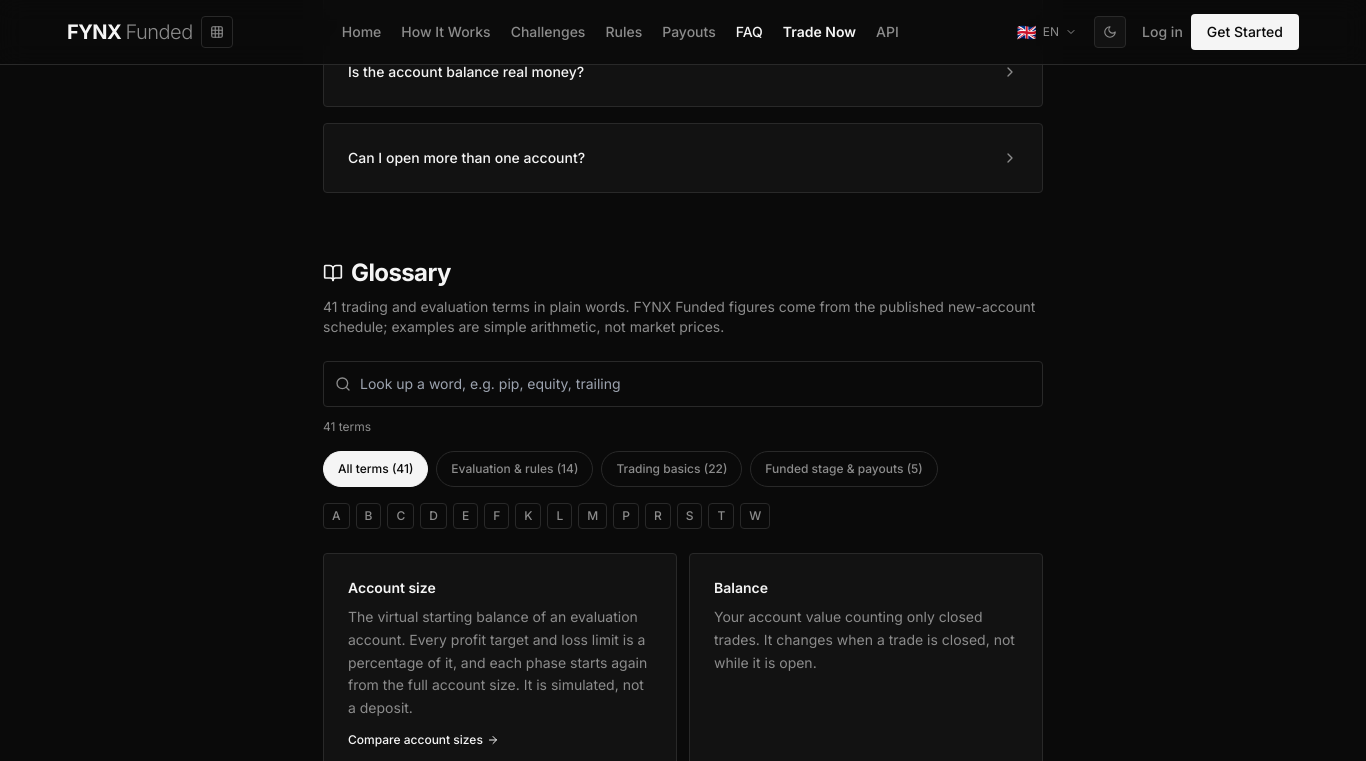
Test case: glossary › is searchable on the FAQ page and links each term
Later steps or results of the test are not shown.
(page scrolled)
Type "equity" into the field named "Search the glossary" at (683, 384), box x1=323 y1=361 x2=1043 y2=407
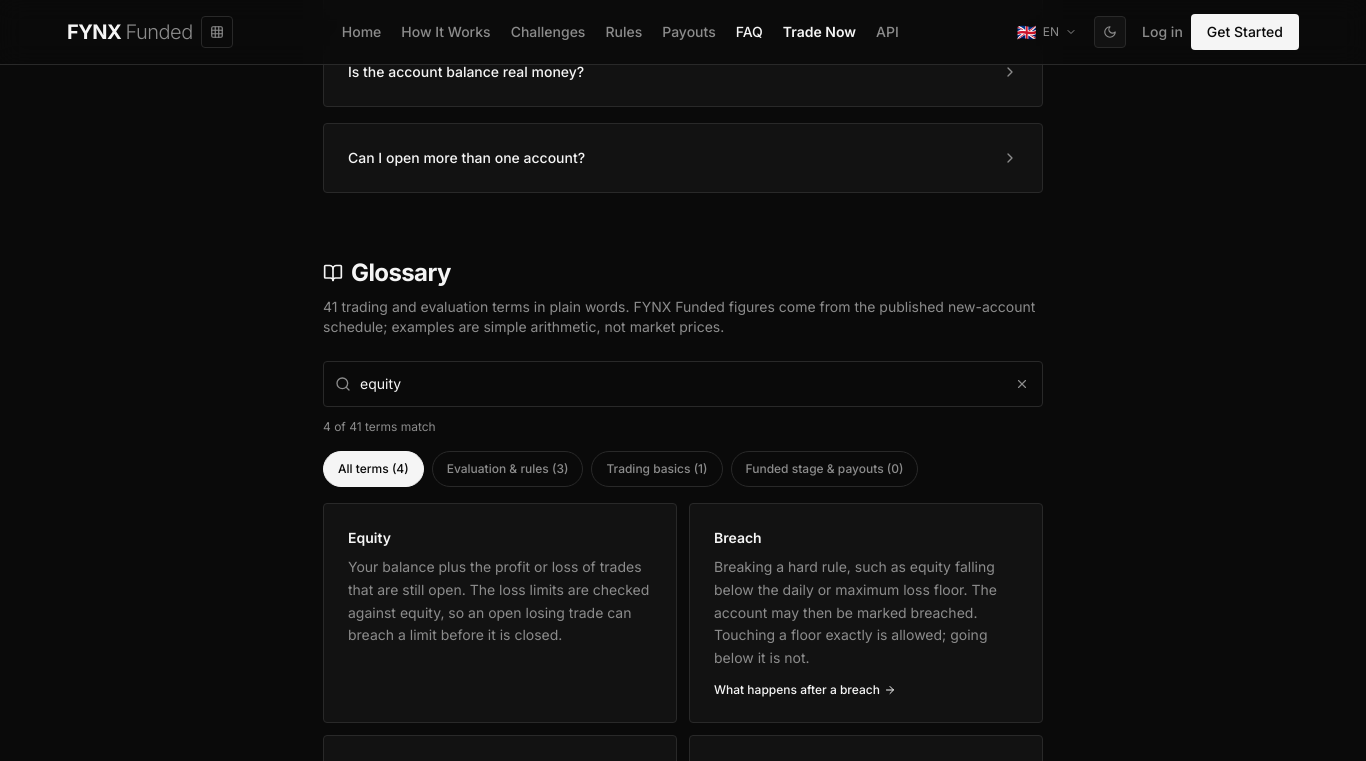
Expected: the text "4 of 41 terms match" is shown, x1=323 y1=419 x2=436 y2=434
